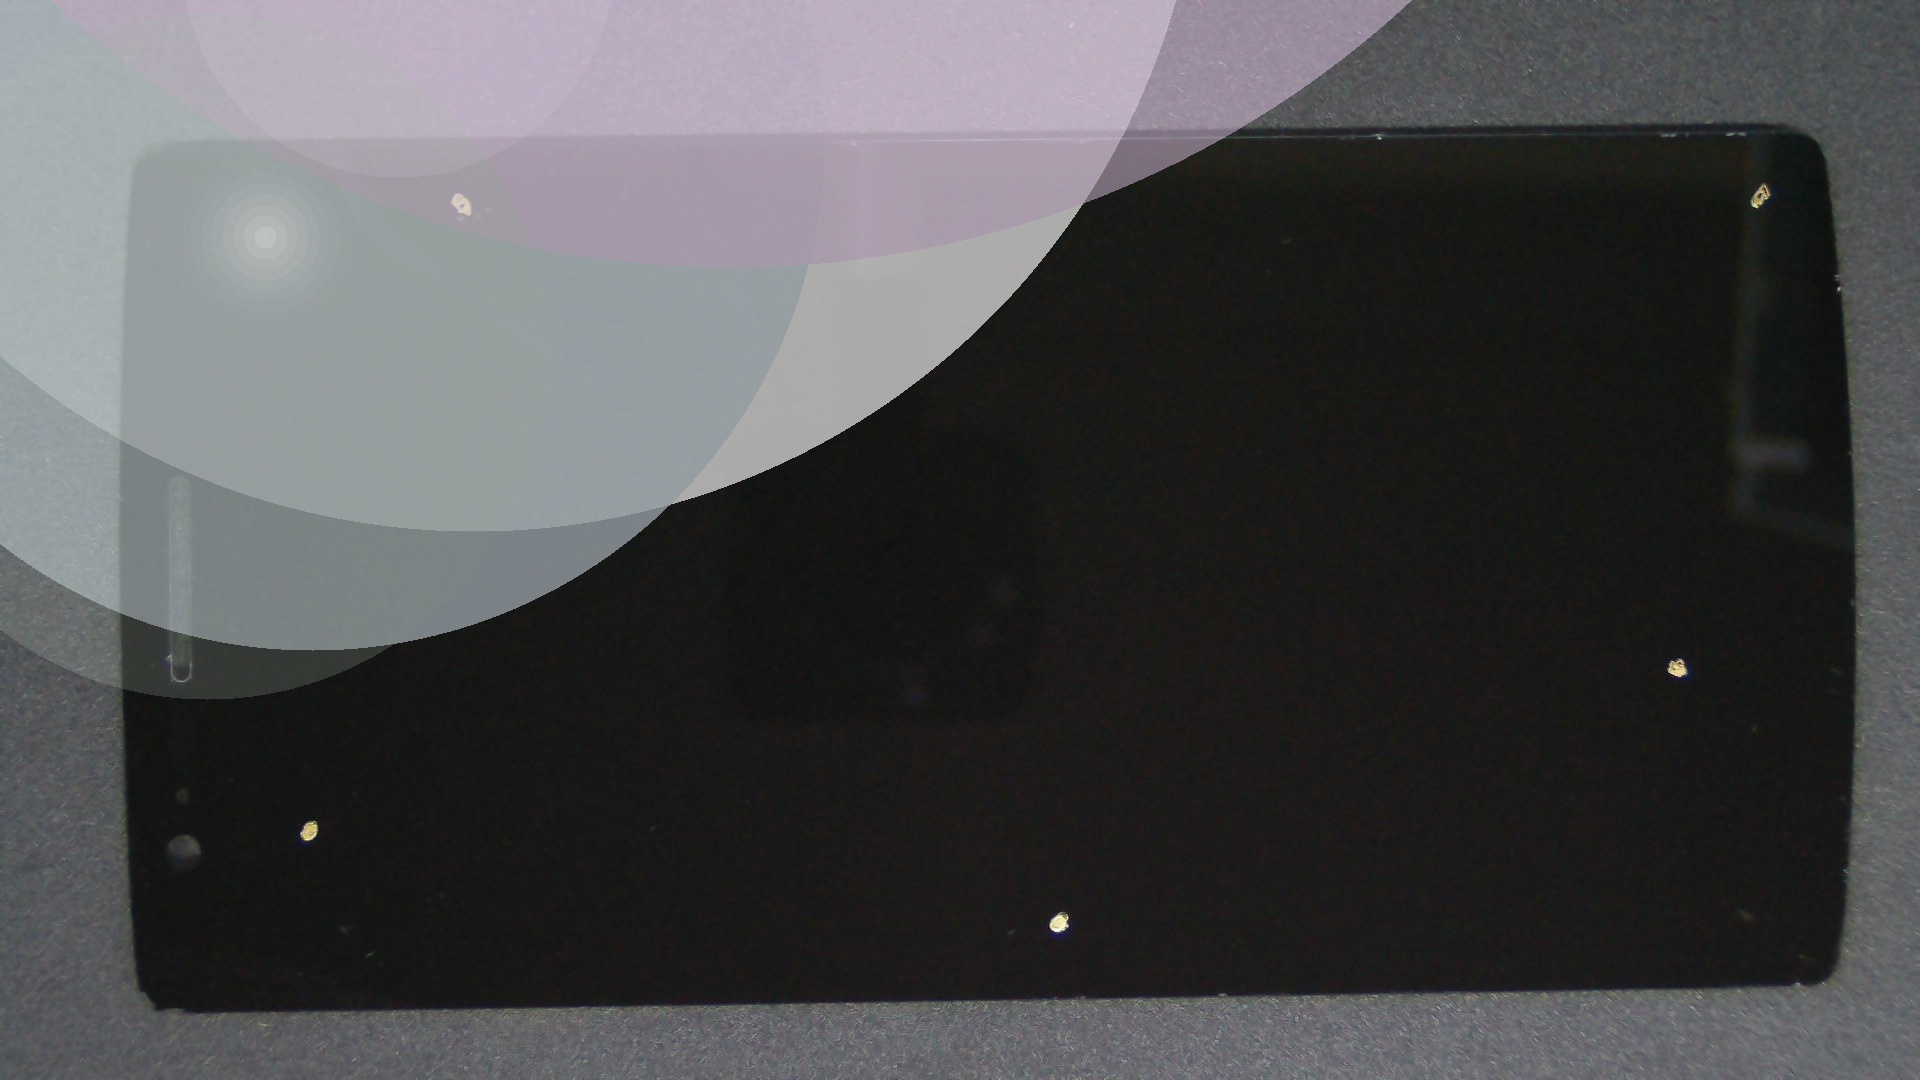oil: (840, 327, 1920, 985), (531, 454, 1585, 1080), (158, 409, 473, 1080), (884, 90, 1920, 272), (229, 94, 686, 286)
